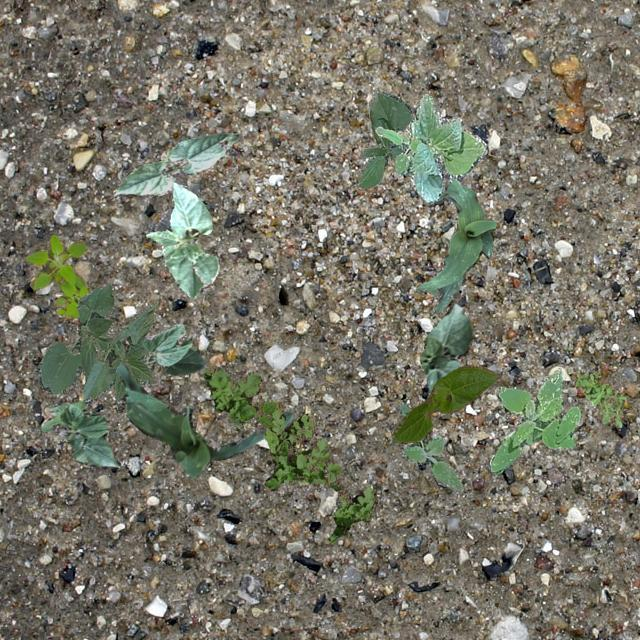crop: (116, 362, 292, 476), (36, 282, 158, 404), (374, 92, 484, 202), (414, 170, 494, 314), (144, 180, 218, 298), (112, 130, 238, 198), (392, 364, 498, 442), (40, 400, 120, 468), (357, 90, 412, 188), (419, 302, 472, 391), (125, 324, 203, 374)
weed: (202, 366, 376, 542), (490, 367, 580, 472), (398, 400, 462, 492), (24, 234, 90, 318), (574, 368, 624, 426)
